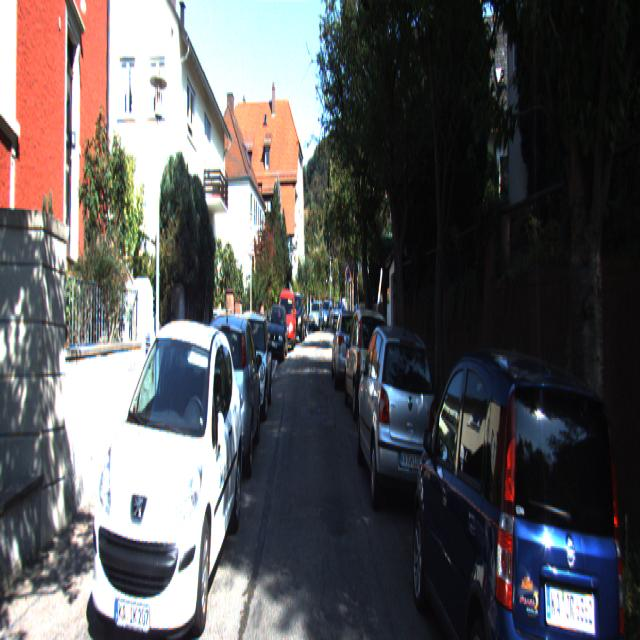Car: (410, 322, 640, 638), (86, 309, 246, 638), (357, 322, 444, 538), (199, 310, 261, 486), (344, 308, 392, 429), (227, 314, 273, 428), (332, 305, 366, 395), (266, 304, 288, 366), (277, 290, 297, 354), (286, 294, 304, 348)
DontCare: (308, 299, 332, 329)
